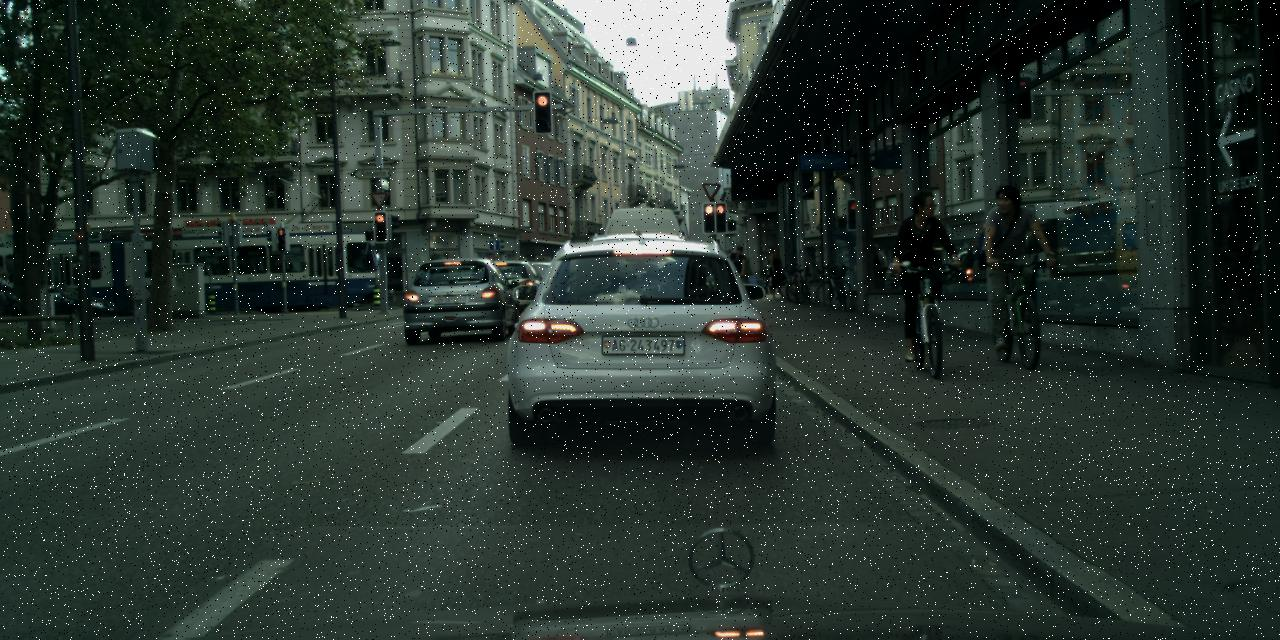ped: (894, 191, 954, 341), (982, 186, 1042, 332), (766, 247, 787, 297), (727, 245, 747, 297)
